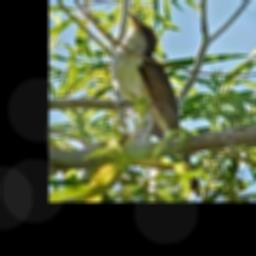Cuckoo: (110, 12, 202, 198)
